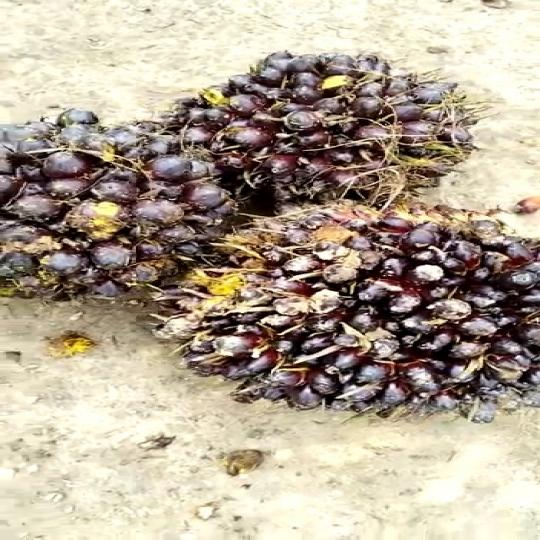mentah: (170, 188, 535, 417), (140, 48, 491, 212), (0, 100, 223, 304)
